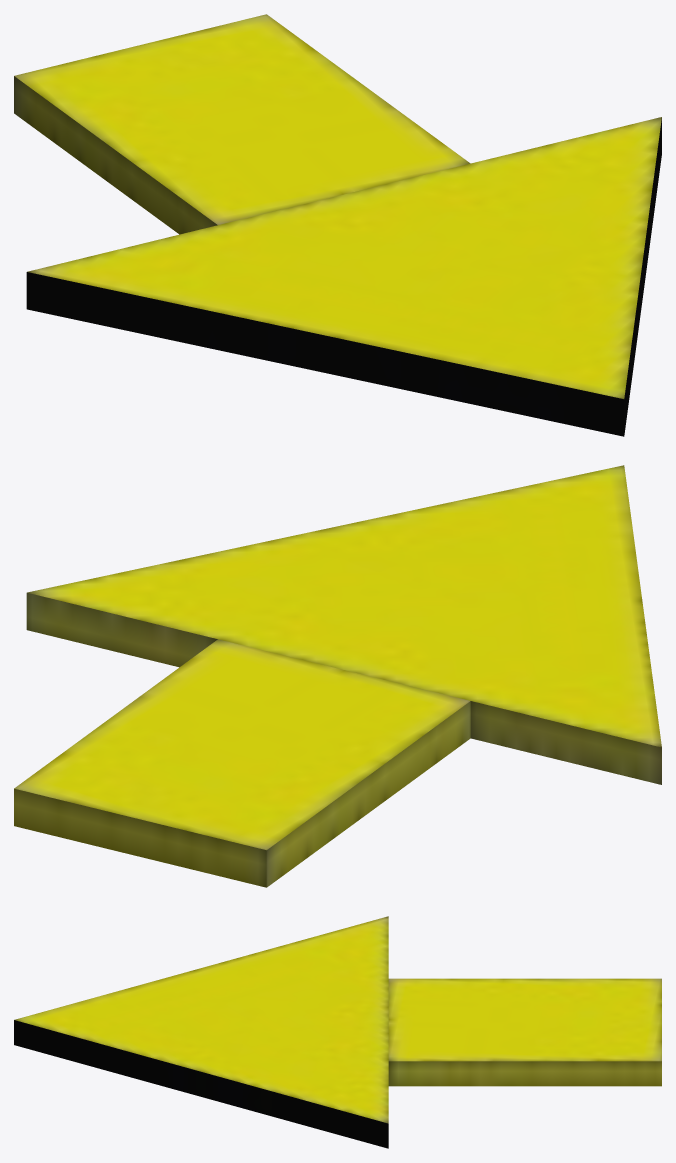
File: arrow.obj
3 renders of one model, top to bottom at view 1: azimuth 30°, elevation 25°; view 2: azimuth 150°, elevation 25°; view 3: azimuth 270°, elevation 25°, orthographic. The views are drawn at different scales.
Parts seen in each view (by area): view 1: Box001; view 2: Box001; view 3: Box001.
Part boxes in pixels (x1=…): Box001: x1=14, y1=14, x2=661, y2=436; Box001: x1=14, y1=465, x2=661, y2=887; Box001: x1=14, y1=916, x2=661, y2=1148.
Size of the model in its own units: 16.09 by 0.9081 by 21.23.
Materials: 1 (1 with a texture image).
